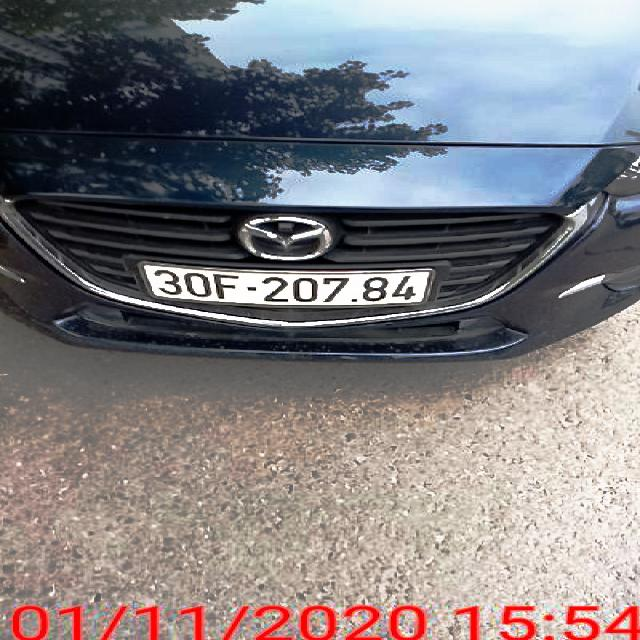license_plate: (143, 264, 433, 304)
